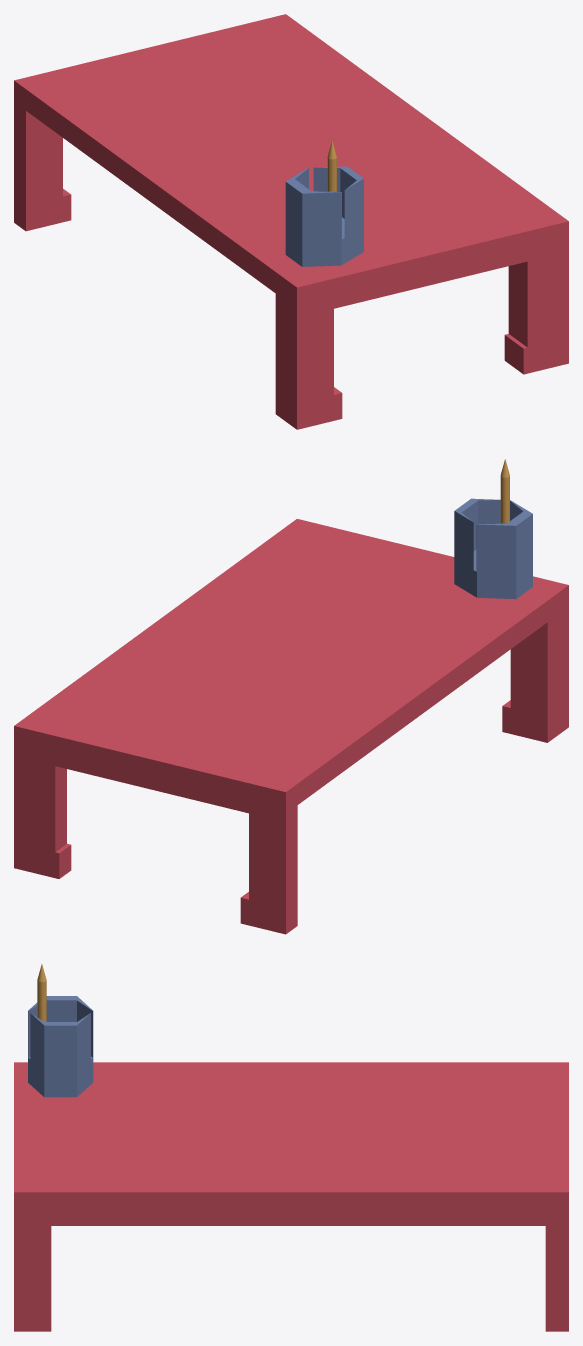
The model's file is Table.glb.
3 views of the same model, one above another, from view 1: azimuth 30°, elevation 25°; view 2: azimuth 150°, elevation 25°; view 3: azimuth 270°, elevation 25° (orthographic). The views are drawn at different scales.
Parts seen in each view (by area): view 1: Mesh_Mesh_head_geo.001_lambert2SG.001; view 2: Mesh_Mesh_head_geo.001_lambert2SG.001; view 3: Mesh_Mesh_head_geo.001_lambert2SG.001.
Part boxes in pixels (bbox=[...]): Mesh_Mesh_head_geo.001_lambert2SG.001: bbox=[14, 14, 568, 429]; Mesh_Mesh_head_geo.001_lambert2SG.001: bbox=[14, 459, 568, 934]; Mesh_Mesh_head_geo.001_lambert2SG.001: bbox=[14, 964, 568, 1331].
Bounding box in the file's own units: 66 × 62 × 119.
